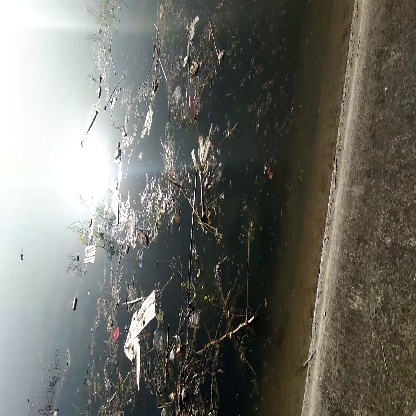plastic-bag: (120, 290, 167, 373)
